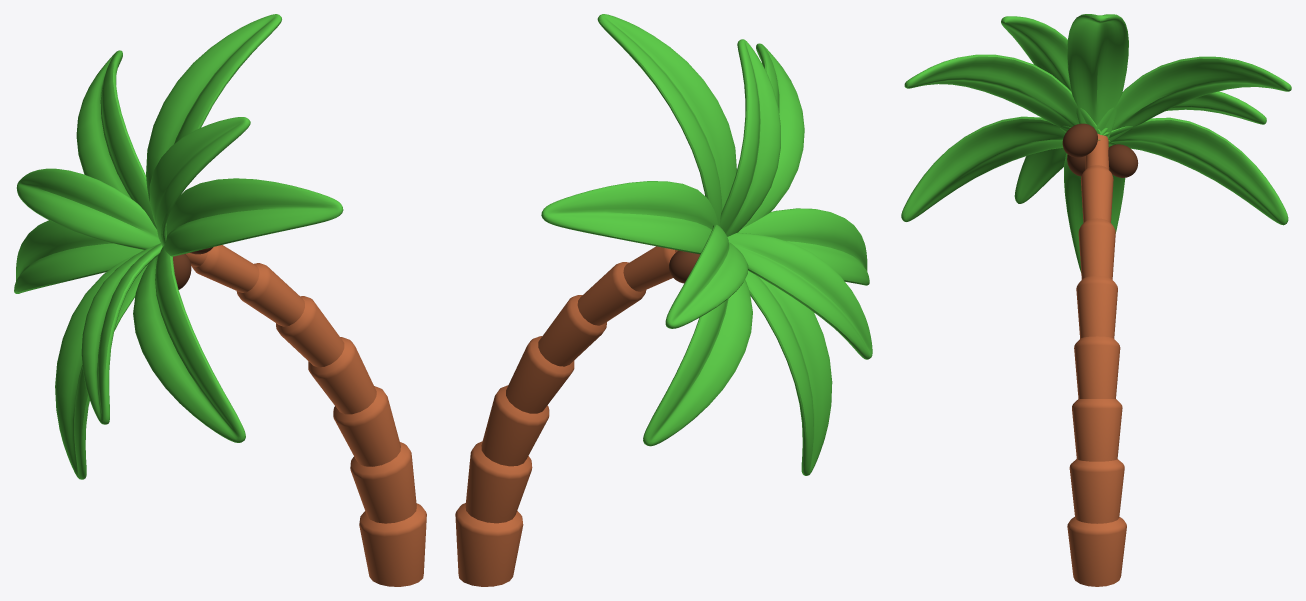
Rendered from palmier_A_MOD_v01.fbx.
The picture shows the model from 3 angles, left to right: view 1: azimuth 30°, elevation 25°; view 2: azimuth 150°, elevation 25°; view 3: azimuth 270°, elevation 25°; orthographic projection. The views are drawn at different scales.
Parts seen in each view (by area): view 1: Plane.009, Cylinder.004, Sphere.008; view 2: Plane.009, Cylinder.004, Sphere.008; view 3: Plane.009, Cylinder.004, Sphere.008.
Part boxes in pixels (bbox=[...]): Plane.009: bbox=[14, 14, 343, 479]; Cylinder.004: bbox=[186, 245, 426, 586]; Sphere.008: bbox=[173, 247, 213, 289]; Plane.009: bbox=[541, 14, 872, 475]; Cylinder.004: bbox=[455, 246, 678, 586]; Sphere.008: bbox=[669, 250, 700, 283]; Plane.009: bbox=[901, 14, 1291, 272]; Cylinder.004: bbox=[1067, 133, 1126, 586]; Sphere.008: bbox=[1062, 123, 1138, 177].
Bounding box in the file's own units: 412 × 632 × 437.
